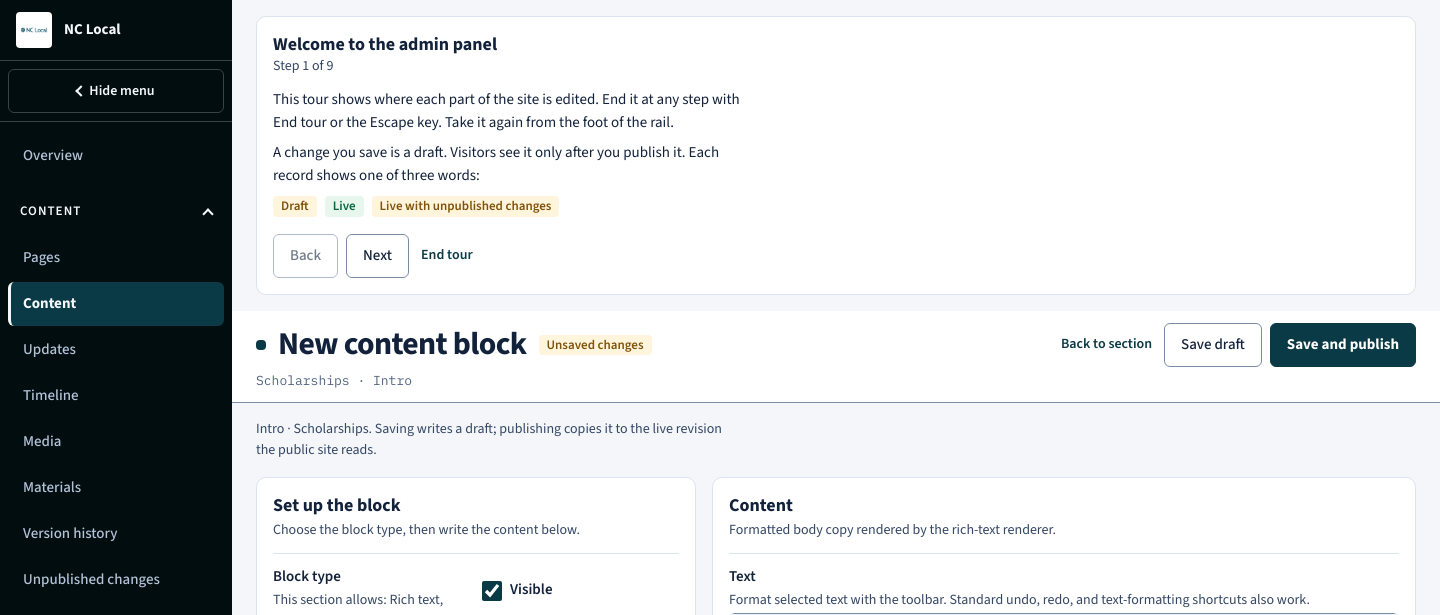
Test: server errors and publish skips › surfaces the server’s rejection verbatim
The width and height of the screenshot is (1440, 615).
Click the button "Save draft".
click(1213, 345)  # box x1=1164 y1=323 x2=1262 y2=367
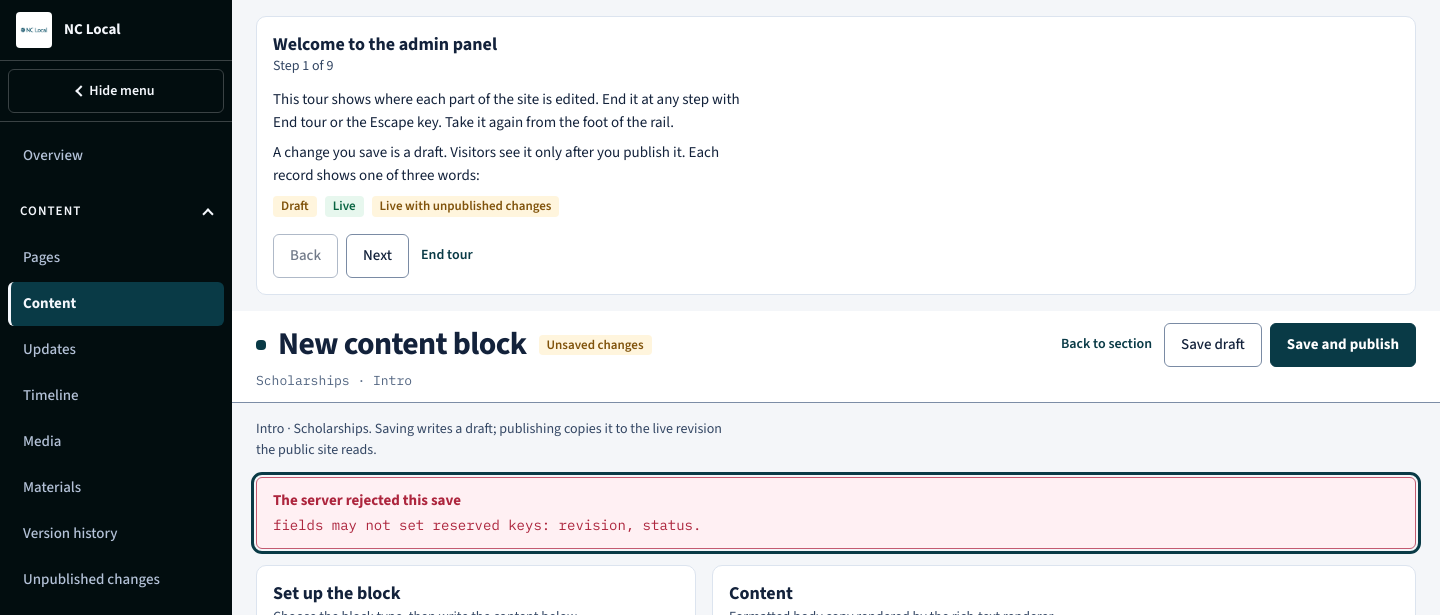
Expected: the message shows "fields may not set reserved keys: revision, status.", x1=273 y1=516 x2=701 y2=534
